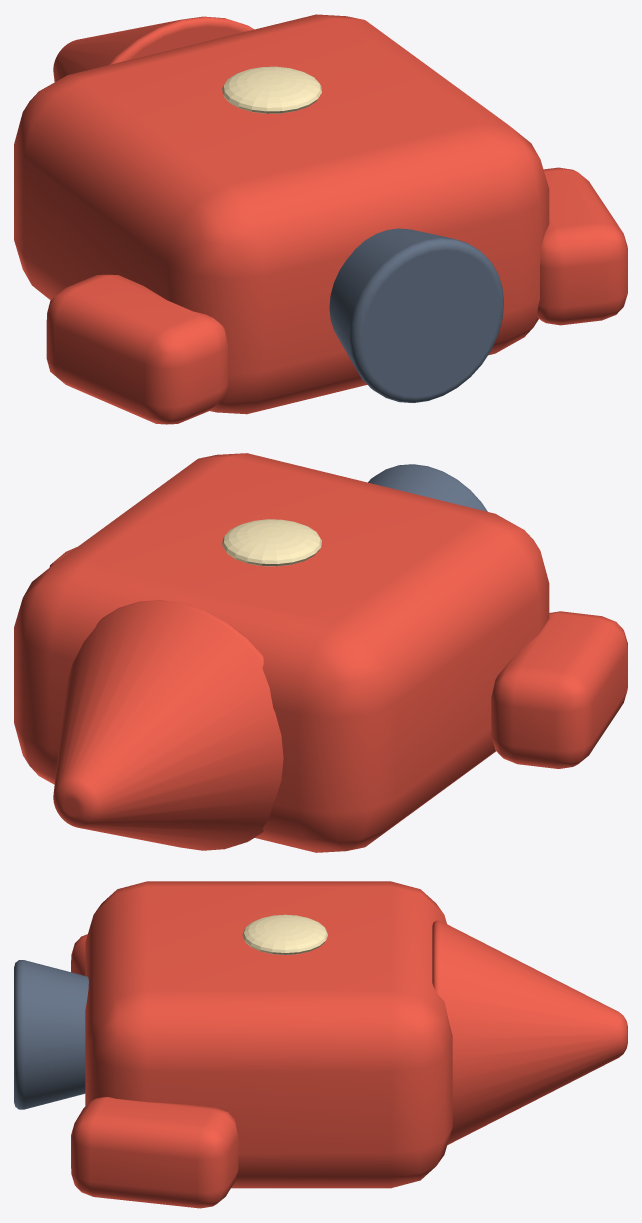
The model's file is AFJ_Final_Rocket_Parts.fbx.
3 views of the same model, one above another, from view 1: azimuth 30°, elevation 25°; view 2: azimuth 150°, elevation 25°; view 3: azimuth 270°, elevation 25° (orthographic). The views are drawn at different scales.
Visible parts, largest first — view 1: Body, Engine, Fin_Left, Fin_Right, Nose, Badge; view 2: Body, Nose, Fin_Left, Badge, Engine; view 3: Body, Nose, Fin_Right, Engine, Badge, Fin_Left.
Boxes of the visible parts, x1=… form: Body: x1=14, y1=14, x2=549, y2=414; Engine: x1=329, y1=228, x2=503, y2=402; Fin_Left: x1=46, y1=274, x2=227, y2=424; Fin_Right: x1=537, y1=167, x2=627, y2=325; Nose: x1=53, y1=16, x2=254, y2=81; Badge: x1=222, y1=66, x2=321, y2=113; Body: x1=14, y1=453, x2=549, y2=852; Nose: x1=53, y1=600, x2=283, y2=850; Fin_Left: x1=491, y1=611, x2=627, y2=768; Badge: x1=222, y1=519, x2=321, y2=566; Engine: x1=368, y1=464, x2=487, y2=511; Body: x1=85, y1=881, x2=452, y2=1188; Nose: x1=432, y1=920, x2=627, y2=1144; Fin_Right: x1=71, y1=1097, x2=238, y2=1208; Engine: x1=14, y1=960, x2=88, y2=1109; Badge: x1=242, y1=914, x2=327, y2=954; Fin_Left: x1=71, y1=934, x2=87, y2=975.
Size of the model in its own units: 130 by 57.59 by 151.
